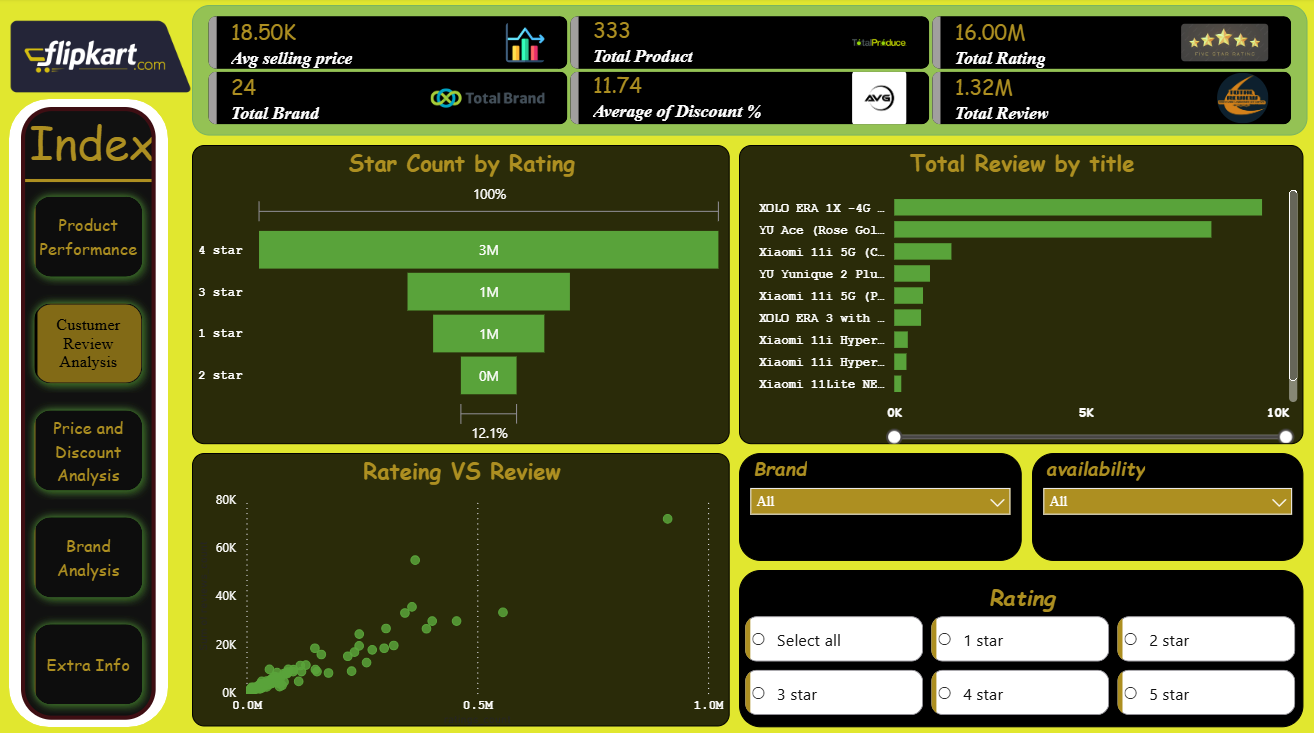

What the dashboard file says about the page in this screenshot:
{"tool":"powerbi","page":{"name":"Custumer Review Analysis","canvas":[1280,720],"ordinal":1},"visuals":[{"type":"shape","box":[9.7,98.2,154.7,610.8],"z":0},{"type":"image","box":[9.7,0,178,114.8],"z":1000},{"type":"slicer","fields":{"Values":["flipkart_smartphones_2022_03_26_2333_IST.brand"]},"box":[720,443,275,105],"z":2000},{"type":"slicer","fields":{"Values":["flipkart_smartphones_2022_03_26_2333_IST.availability"]},"box":[1005,443,264,105],"z":3000},{"type":"barChart","fields":{"Category":["flipkart_smartphones_2022_03_26_2333_IST.title"],"Y":["flipkart_smartphones_2022_03_26_2333_IST.Total Review"]},"box":[720,143,549,291],"z":4000},{"type":"advancedSlicerVisual","fields":{"Values":["Star Ratings.Rating"]},"box":[720,556,549,153],"z":5000},{"type":"funnel","fields":{"Category":["Star Ratings.Rating"],"Y":["flipkart_smartphones_2022_03_26_2333_IST.Star Count"]},"box":[188,143,523,291],"z":6000},{"type":"cardVisual","fields":{"Data":["flipkart_smartphones_2022_03_26_2333_IST.Avg selling price","flipkart_smartphones_2022_03_26_2333_IST.Total Product","flipkart_smartphones_2022_03_26_2333_IST.Total Rating","flipkart_smartphones_2022_03_26_2333_IST.Total Brand","Avg(flipkart_smartphones_2022_03_26_2333_IST.Discount %)","flipkart_smartphones_2022_03_26_2333_IST.Total Review"]},"box":[187.7,6.8,1085.5,127.4],"z":7000},{"type":"scatterChart","title":"Rateing VS Review","fields":{"X":["flipkart_smartphones_2022_03_26_2333_IST.ratings_count"],"Y":["Sum(flipkart_smartphones_2022_03_26_2333_IST.reviews_count)"]},"box":[188,443,523,266],"z":8000},{"type":"pageNavigator","title":"Index","box":[21,106,131,596],"z":9000}]}

Visuals, with their boxes in screenshot pixels (x1, y1, x2, y2), scaled from the page's 1280x720 canvas onto the 1314x733 screenshot:
shape: 10 100 169 722
image: 10 0 193 117
slicer - flipkart_smartphones_2022_03_26_2333_IST.brand: 739 451 1021 558
slicer - flipkart_smartphones_2022_03_26_2333_IST.availability: 1032 451 1303 558
barChart - flipkart_smartphones_2022_03_26_2333_IST.title x flipkart_smartphones_2022_03_26_2333_IST.Total Review: 739 146 1303 442
advancedSlicerVisual - Star Ratings.Rating: 739 566 1303 722
funnel - Star Ratings.Rating x flipkart_smartphones_2022_03_26_2333_IST.Star Count: 193 146 730 442
cardVisual - flipkart_smartphones_2022_03_26_2333_IST.Avg selling price x flipkart_smartphones_2022_03_26_2333_IST.Total Product: 193 7 1307 137
"Rateing VS Review" scatterChart: 193 451 730 722
"Index" pageNavigator: 22 108 156 715
